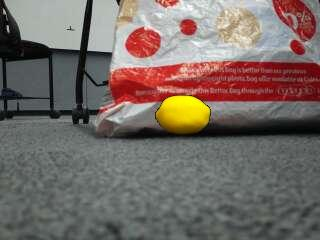lemon: (157, 97, 210, 135)
